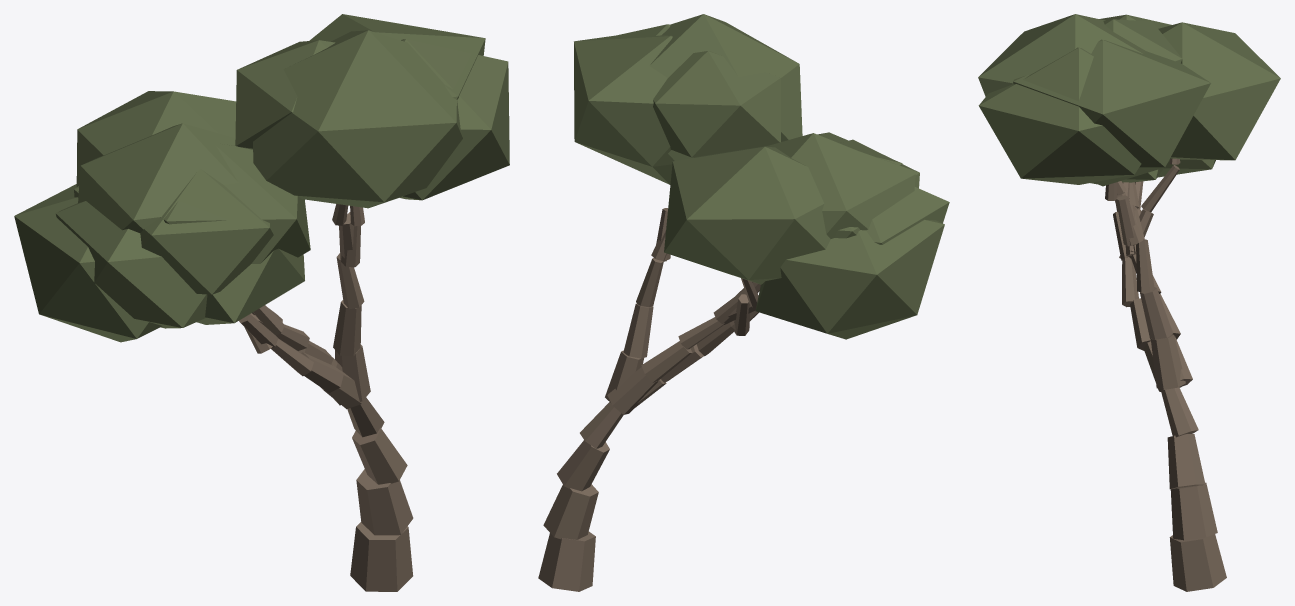
Rendered from oak.glb.
3 renders of one model, left to right at view 1: azimuth 30°, elevation 25°; view 2: azimuth 150°, elevation 25°; view 3: azimuth 270°, elevation 25°, orthographic. The views are drawn at different scales.
Visible parts, largest first — view 1: oak_leaf, oak_bark; view 2: oak_leaf, oak_bark; view 3: oak_leaf, oak_bark.
Boxes of the visible parts, <box> form: oak_leaf: <box>14,14,509,342</box>; oak_bark: <box>239,204,413,591</box>; oak_leaf: <box>574,14,949,339</box>; oak_bark: <box>538,208,760,591</box>; oak_leaf: <box>978,14,1280,186</box>; oak_bark: <box>1105,158,1226,591</box>.
Bounding box in the file's own units: 5.34 × 7.43 × 3.81.
